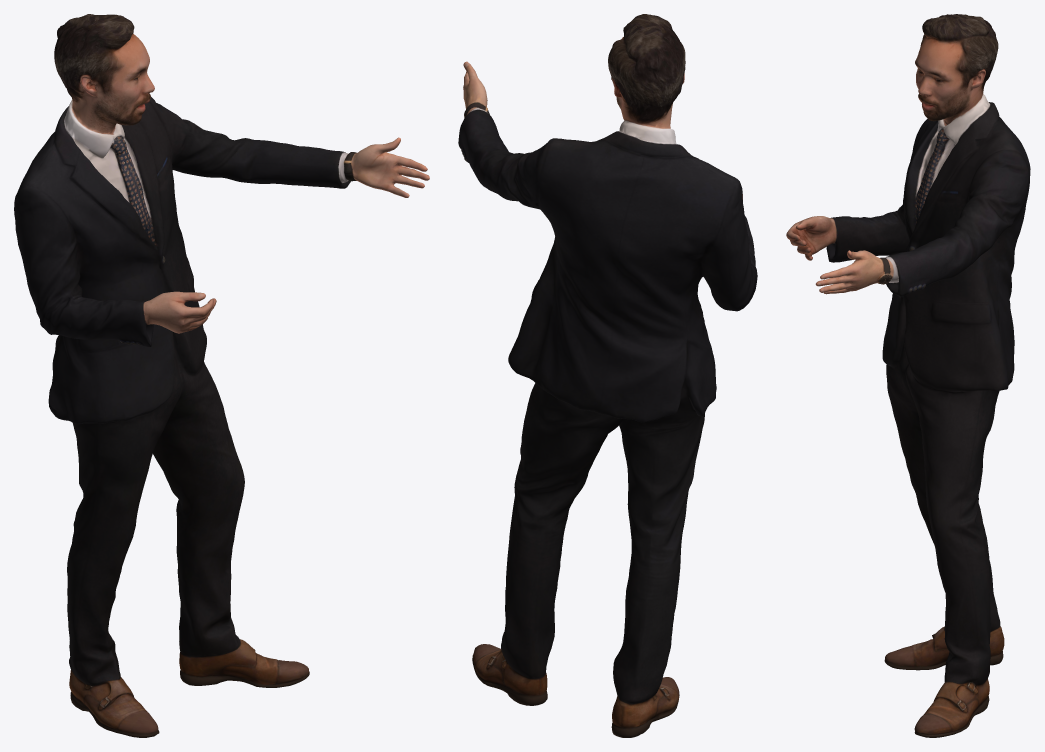
The model's file is 00256_Daud008.OBJ.
3 renders of one model, left to right at view 1: azimuth 30°, elevation 25°; view 2: azimuth 150°, elevation 25°; view 3: azimuth 270°, elevation 25°, orthographic. The views are drawn at different scales.
Visible parts, largest first — view 1: 00256_Daud008; view 2: 00256_Daud008; view 3: 00256_Daud008.
Boxes of the visible parts, x1,y1,x2,y2 form: 00256_Daud008: (14,14,429,737); 00256_Daud008: (458,14,757,737); 00256_Daud008: (786,14,1030,737).
Bounding box in the file's own units: 35.89 × 70.46 × 24.23.
Materials: 1 (1 with a texture image).
